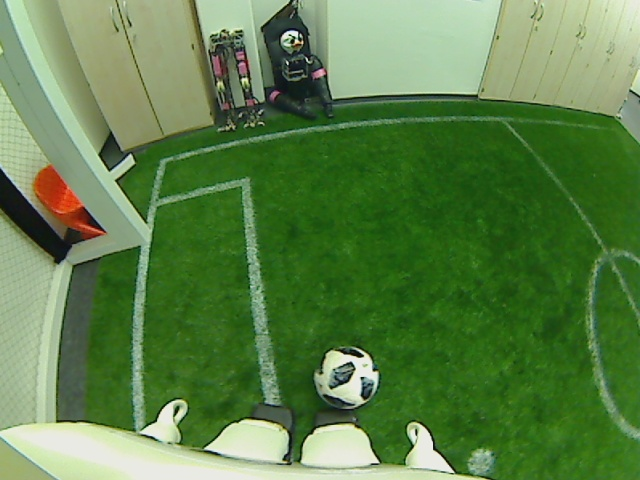ball: (310, 342, 381, 411)
